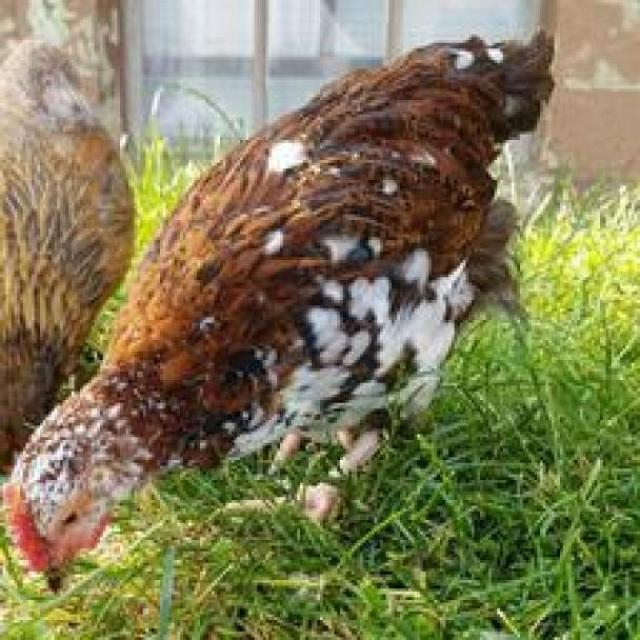Chicken: (3, 29, 578, 612)
